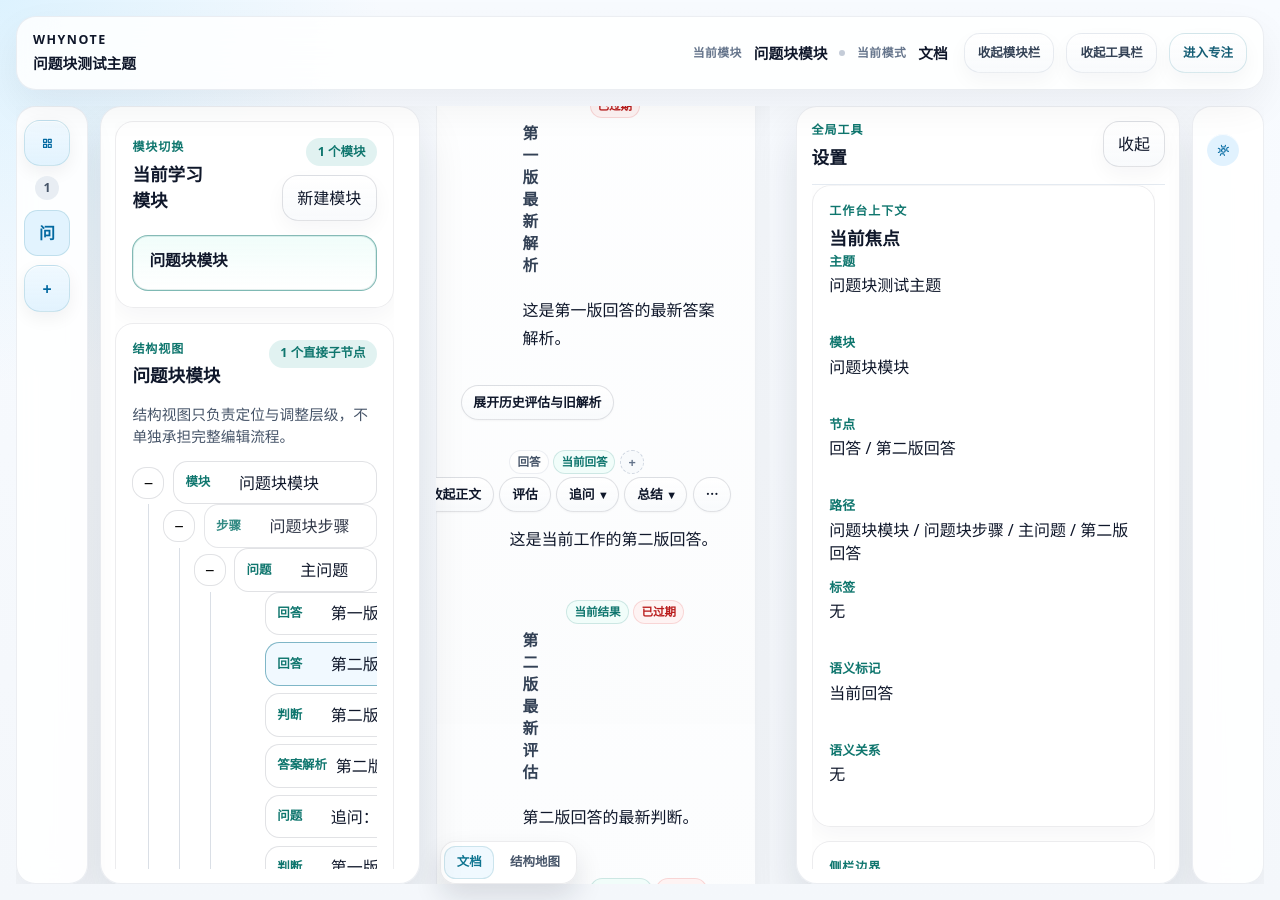
Test case: keeps the current answer reevaluation action on the selected current answer
(page scrolled)
Expected: the button "评估" is enabled, left=499, top=477, right=551, bottom=512
What coordinates should you click on to do the following:
click the button "⋯"
I would click on:
 (712, 495)
Its box is left=693, top=477, right=731, bottom=512.
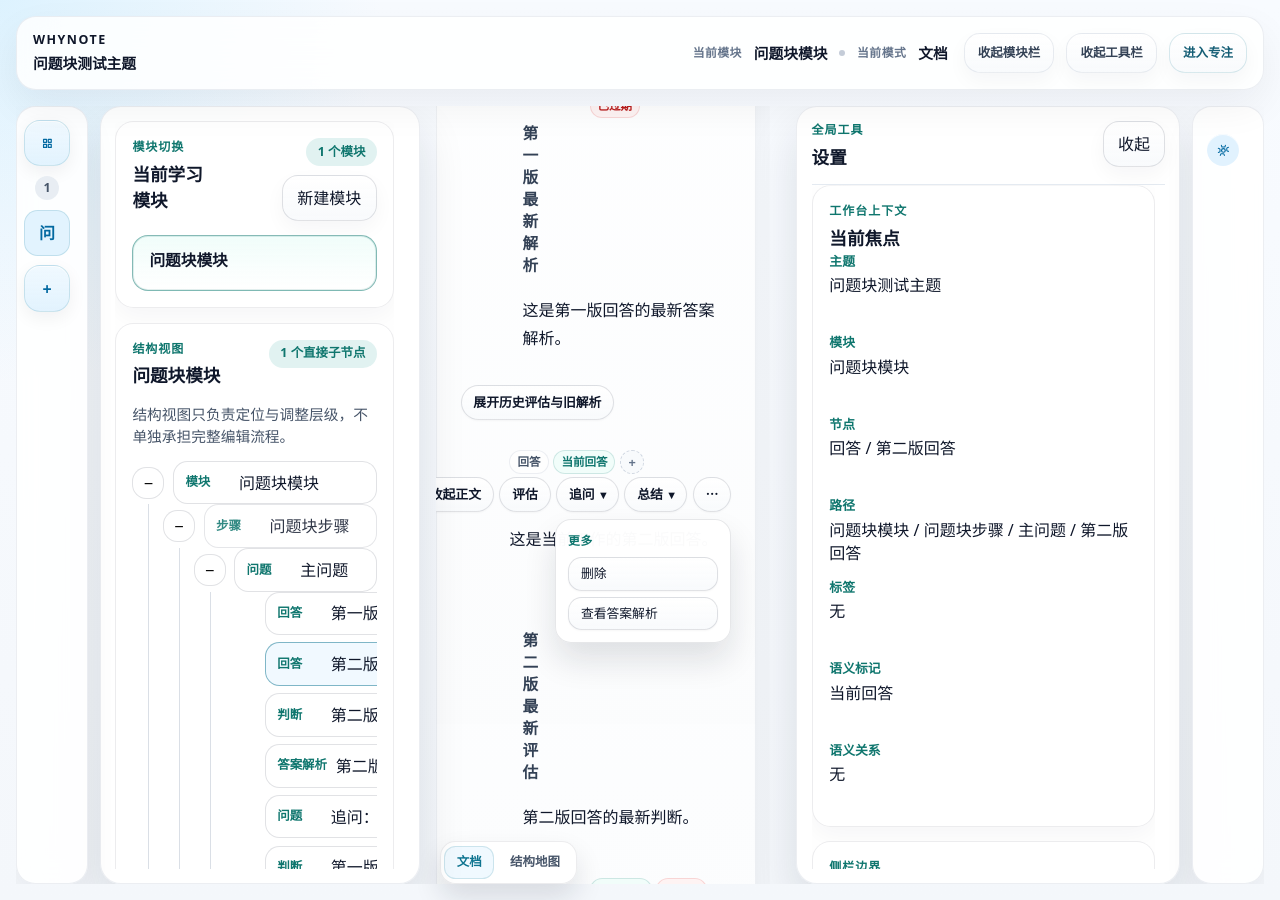
Expected: the button "删除" is shown, left=568, top=557, right=718, bottom=591
Expected: the button "查看答案解析" is shown, left=568, top=596, right=718, bottom=630
